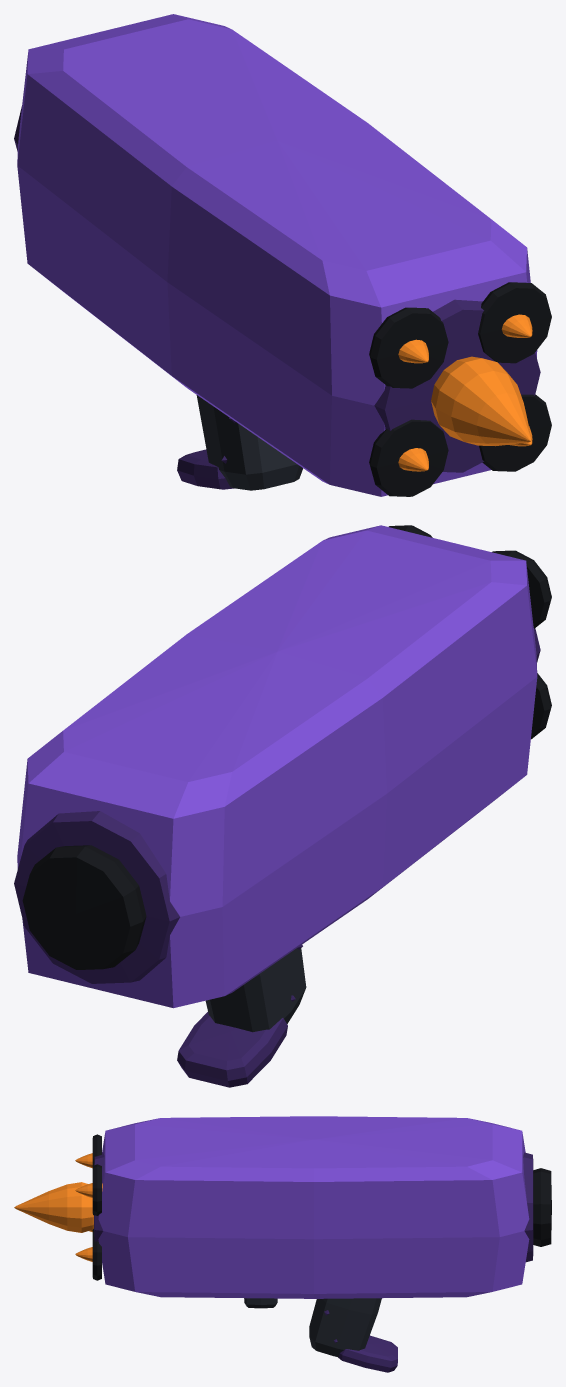
The model's file is g-x-cluster.glb.
3 views of the same model, one above another, from view 1: azimuth 30°, elevation 25°; view 2: azimuth 150°, elevation 25°; view 3: azimuth 270°, elevation 25° (orthographic). The views are drawn at different scales.
Visible parts, largest first — view 1: gun; view 2: gun; view 3: gun.
Boxes of the visible parts, x1,y1,x2,y2 form: gun: (14, 14, 551, 496); gun: (14, 525, 551, 1087); gun: (14, 1116, 551, 1372).
Bounding box in the file's own units: 0.34 × 0.5636 × 1.22.
